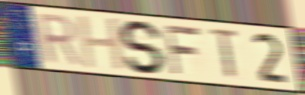2: (252, 32, 289, 86)
F: (162, 23, 202, 76)
H: (75, 15, 129, 72)
R: (34, 12, 84, 68)
S: (119, 19, 168, 76)
T: (209, 26, 241, 82)
